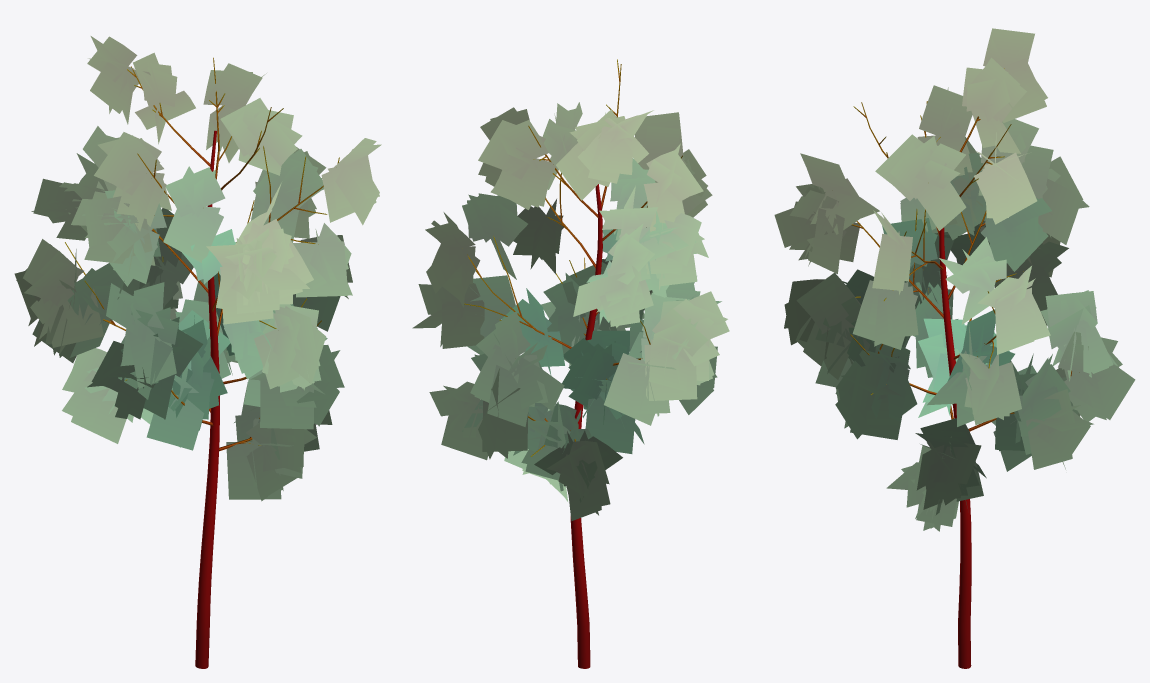
File: young_alder.glb
3 renders of one model, left to right at view 1: azimuth 30°, elevation 25°; view 2: azimuth 150°, elevation 25°; view 3: azimuth 270°, elevation 25°, orthographic. The views are drawn at different scales.
Visible parts, largest first — view 1: LOD0; view 2: LOD0; view 3: LOD0.
Part boxes in pixels (left/top/right/bottom): LOD0: left=14, top=36, right=381, bottom=668; LOD0: left=412, top=59, right=729, bottom=668; LOD0: left=774, top=28, right=1135, bottom=668.
Size of what is drawn, in the model's own units: 4.63 by 8.8 by 4.65.
